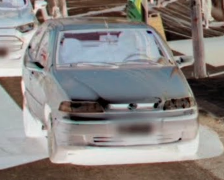car: (20, 18, 200, 163)
